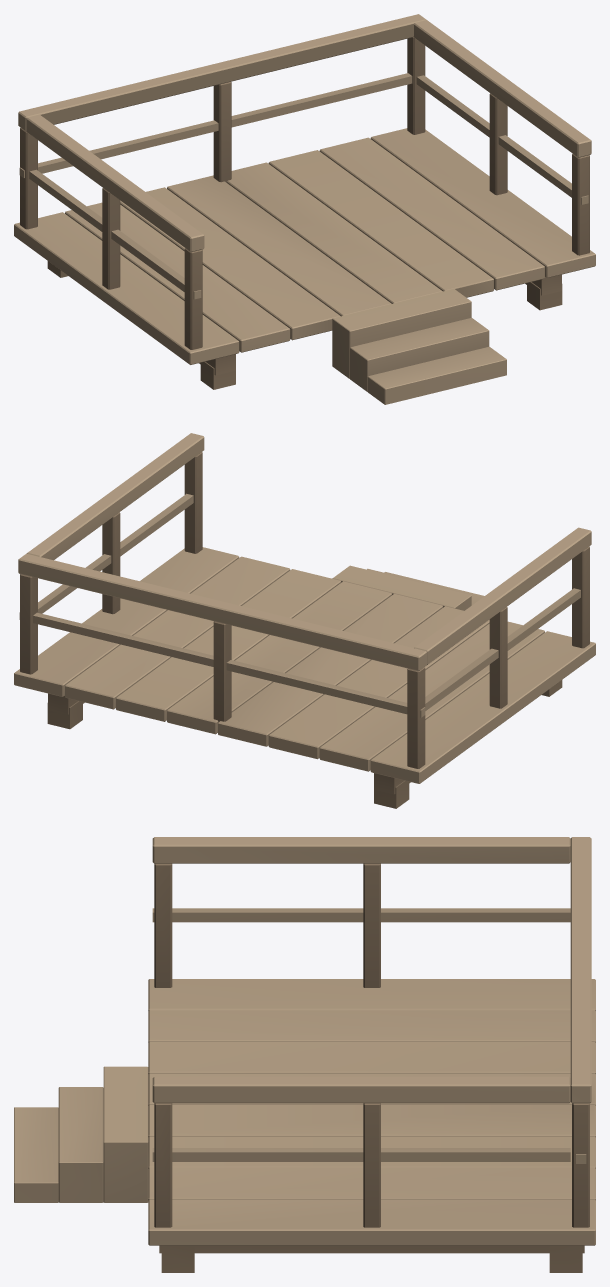
File: view_deck.glb
3 renders of one model, top to bottom at view 1: azimuth 30°, elevation 25°; view 2: azimuth 150°, elevation 25°; view 3: azimuth 270°, elevation 25°, orthographic. The views are drawn at different scales.
Parts seen in each view (by area): view 1: geometry_view_deck; view 2: geometry_view_deck; view 3: geometry_view_deck.
Boxes of the visible parts, bbox=[...] form: geometry_view_deck: bbox=[14, 14, 595, 404]; geometry_view_deck: bbox=[14, 433, 595, 808]; geometry_view_deck: bbox=[14, 837, 595, 1272].
Size of the model in its own units: 3.99 by 1.51 by 3.9.
